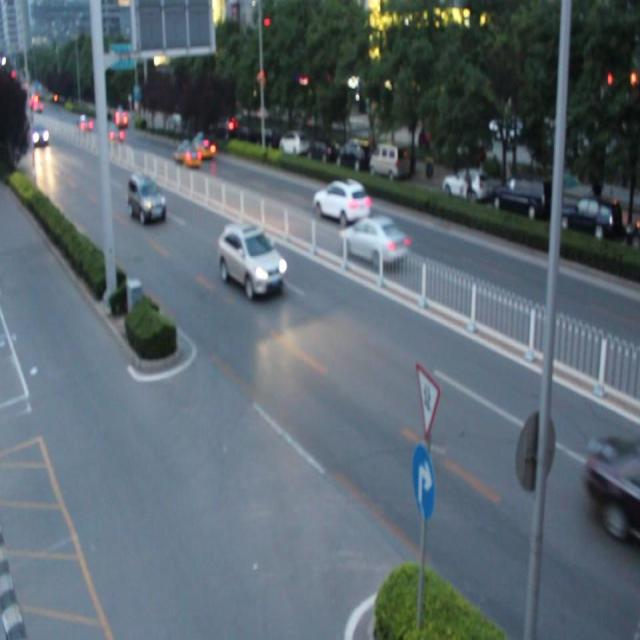car: (220, 226, 283, 290), (342, 216, 408, 264), (317, 182, 368, 220), (130, 175, 166, 221), (187, 134, 218, 162), (173, 140, 202, 169)
